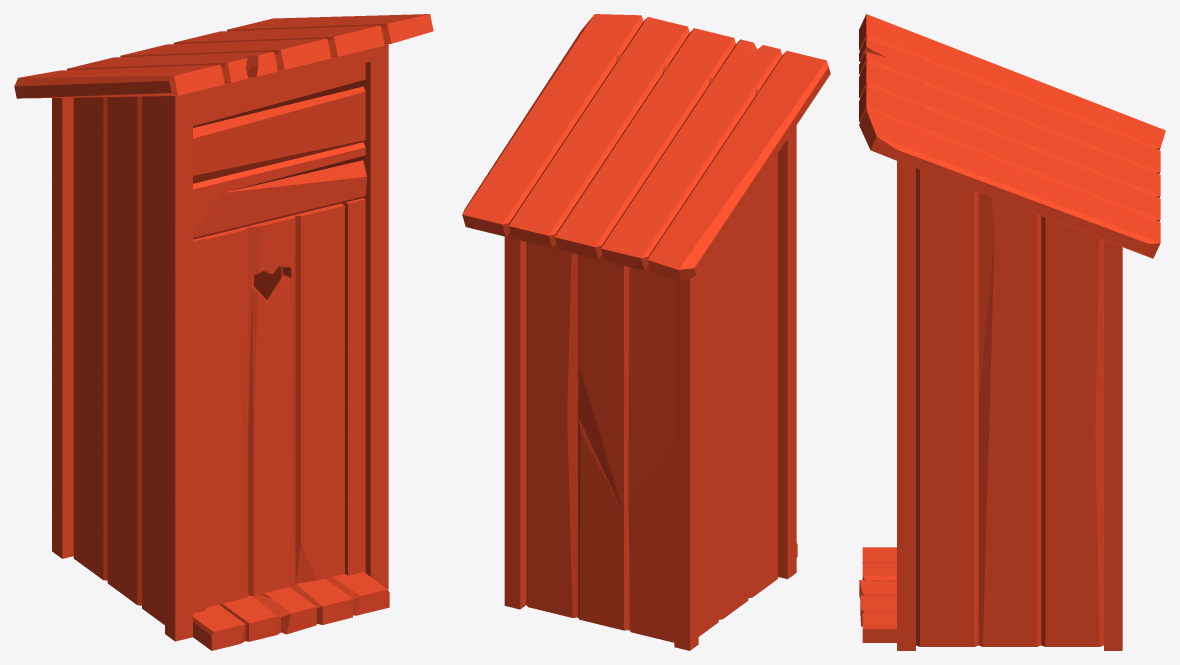
Rendered from outhouse-small-summer-camp.fbx.
3 renders of one model, left to right at view 1: azimuth 30°, elevation 25°; view 2: azimuth 150°, elevation 25°; view 3: azimuth 270°, elevation 25°, orthographic. The views are drawn at different scales.
Visible parts, largest first — view 1: outhouse-small-base-summer-camp, outhouse-small-door-summer-camp; view 2: outhouse-small-base-summer-camp; view 3: outhouse-small-base-summer-camp.
Boxes of the visible parts, x1,y1,x2,y2 form: outhouse-small-base-summer-camp: (14, 14, 433, 650); outhouse-small-door-summer-camp: (204, 203, 344, 607); outhouse-small-base-summer-camp: (462, 14, 830, 650); outhouse-small-base-summer-camp: (859, 14, 1165, 650).
Bounding box in the file's own units: 1.52 × 3.13 × 1.63.
